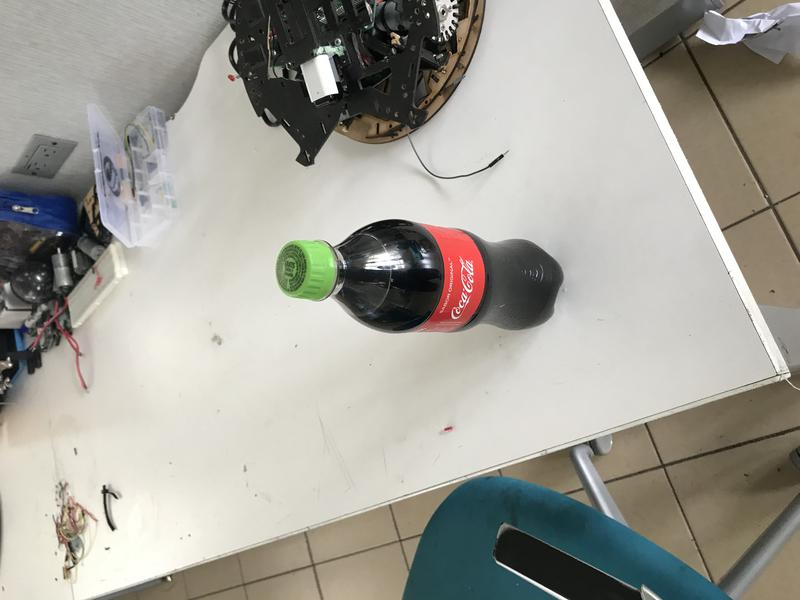coca_cola: (277, 218, 564, 334)
